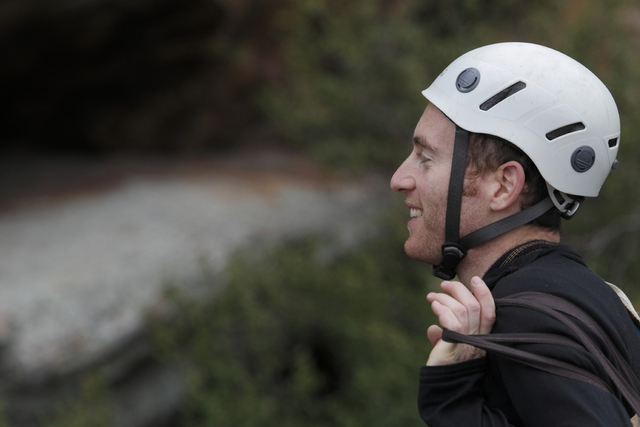helmet: (426, 35, 626, 189)
